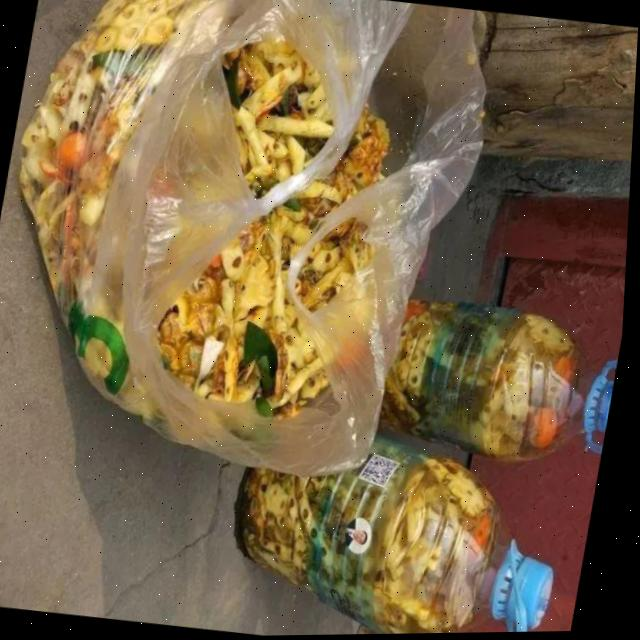Wet: (0, 0, 421, 469), (218, 435, 511, 637), (373, 291, 593, 476)
